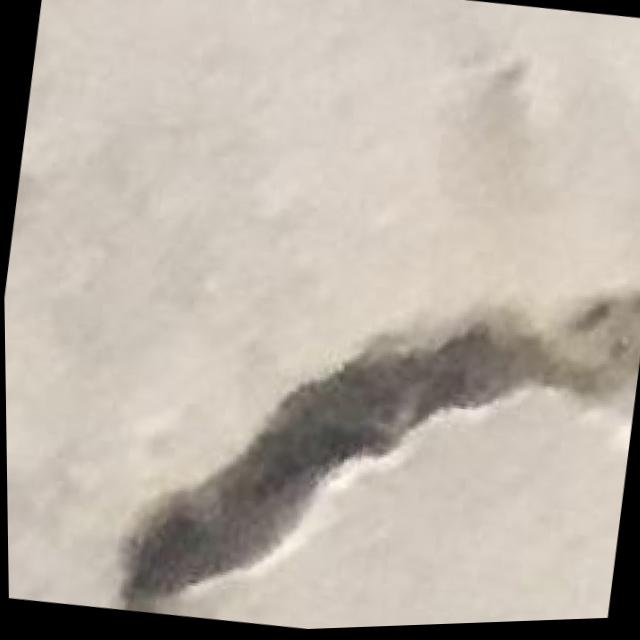Crack: (62, 211, 640, 638)
